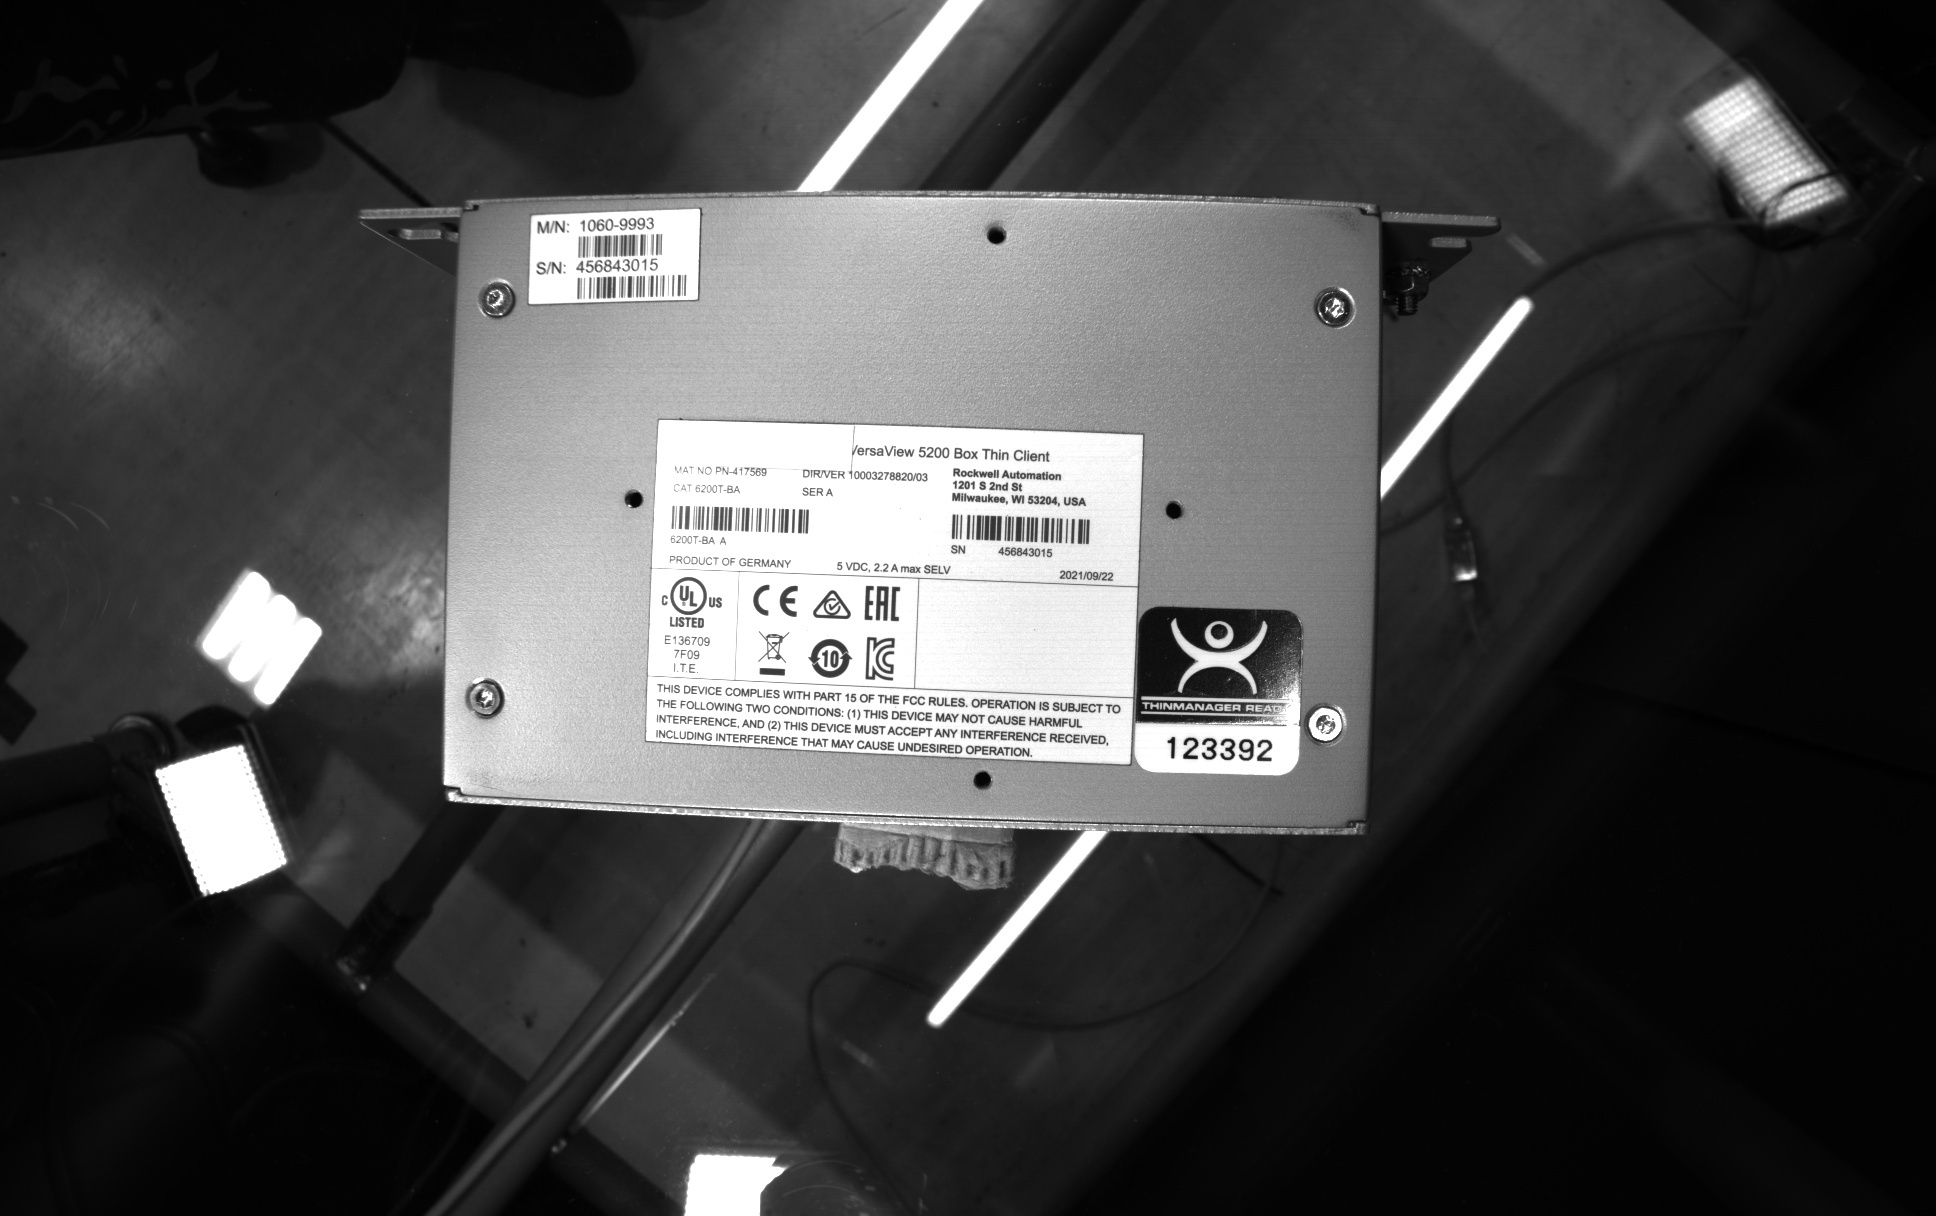Barcode: (944, 506, 1100, 552), (658, 502, 815, 542), (570, 269, 692, 305), (567, 226, 670, 262)
CamTop: (429, 175, 1399, 862)
Label_Seriennummer: (628, 405, 1156, 775)
Loch_Montage: (611, 476, 651, 523), (957, 759, 1000, 799), (1156, 488, 1195, 530), (976, 216, 1016, 255)
Schraube: (1308, 282, 1364, 335), (459, 671, 510, 727), (1301, 698, 1350, 752), (471, 272, 520, 324)
